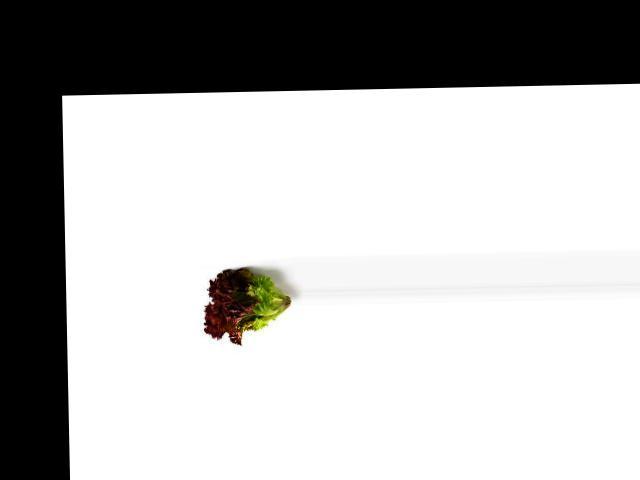lettuce: (198, 265, 303, 343)
